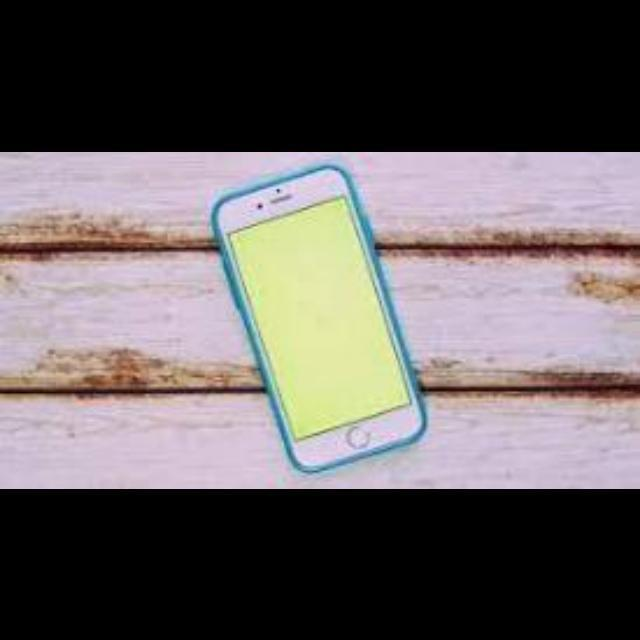phone: (188, 160, 458, 475)
